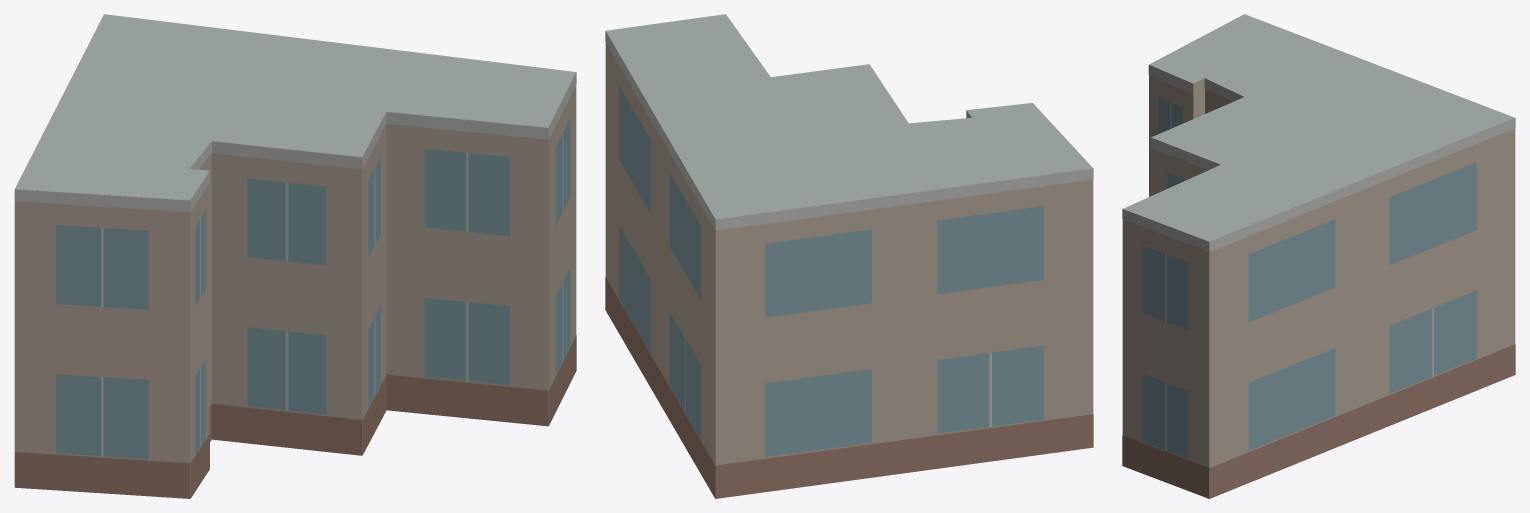
Rendered from survey-upis-32753753.glb.
The picture shows the model from 3 angles, left to right: view 1: azimuth 30°, elevation 25°; view 2: azimuth 150°, elevation 25°; view 3: azimuth 270°, elevation 25°; orthographic projection. The views are drawn at different scales.
Visible parts, largest first — view 1: survey-upis-32753753.tmp; view 2: survey-upis-32753753.tmp; view 3: survey-upis-32753753.tmp.
Boxes of the visible parts, x1,y1,x2,y2 form: survey-upis-32753753.tmp: (14,14,576,498); survey-upis-32753753.tmp: (605,14,1093,498); survey-upis-32753753.tmp: (1122,14,1515,498).
Size of the model in its own units: 11.6 by 6.1 by 8.45.
